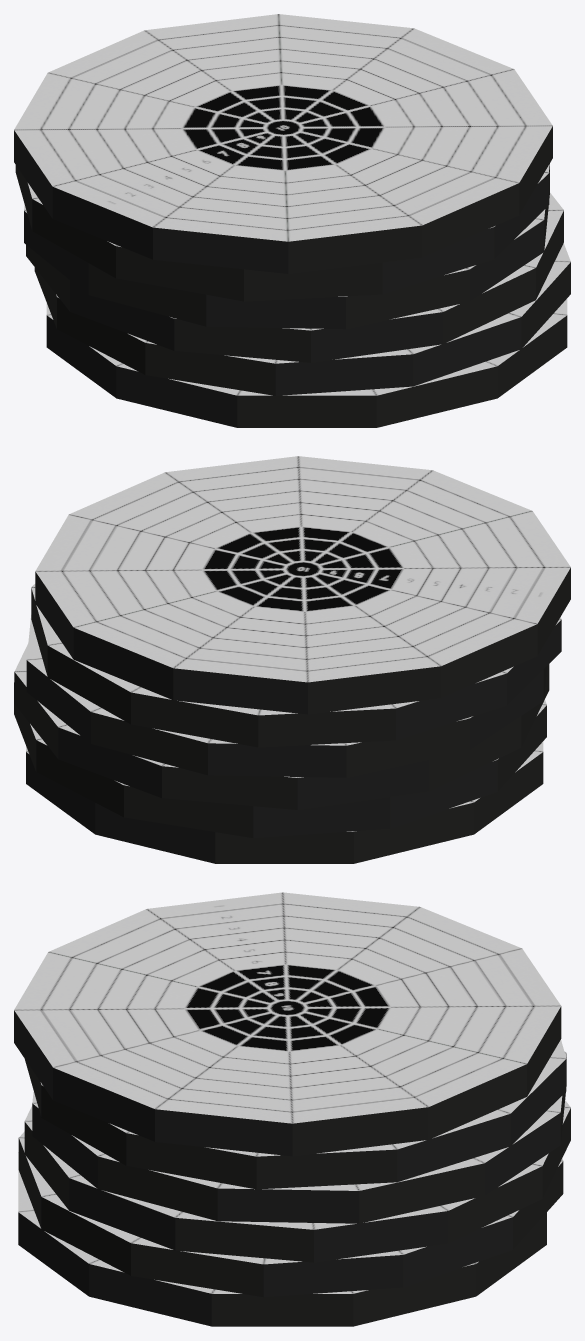
Rendered from Targets.fbx.
3 renders of one model, top to bottom at view 1: azimuth 30°, elevation 25°; view 2: azimuth 150°, elevation 25°; view 3: azimuth 270°, elevation 25°, orthographic. The views are drawn at different scales.
Visible parts, largest first — view 1: Targets; view 2: Targets; view 3: Targets.
Part boxes in pixels (bbox=[...]): Targets: bbox=[14, 14, 570, 427]; Targets: bbox=[14, 456, 570, 863]; Targets: bbox=[14, 892, 570, 1326].
Bounding box in the file's own units: 1.7 × 1.66 × 0.6463.
